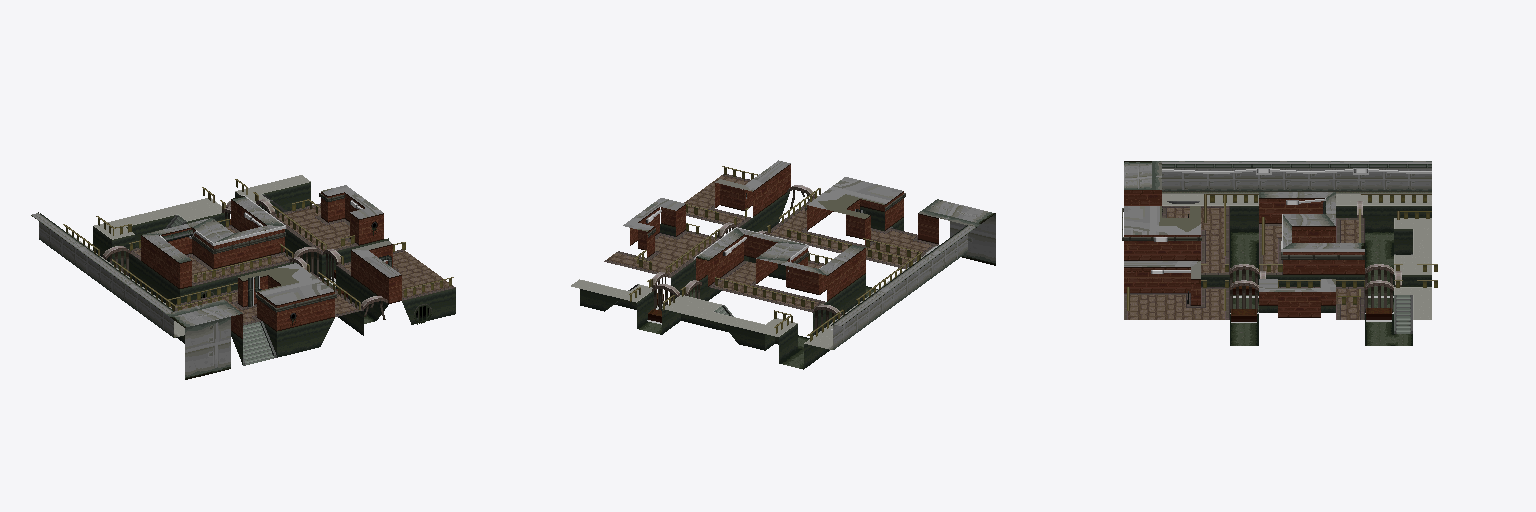
3 views of the same model, side by side, from view 1: azimuth 30°, elevation 25°; view 2: azimuth 150°, elevation 25°; view 3: azimuth 270°, elevation 25° (orthographic).
Parts seen in each view (by area): view 1: polygon5, polygon6, polygon0, polygon4, polygon7, polygon18, polygon3, polygon22, polygon1, polygon15, polygon16; view 2: polygon5, polygon6, polygon0, polygon4, polygon7, polygon3, polygon18, polygon1, polygon16, polygon17; view 3: polygon5, polygon6, polygon4, polygon17, polygon0, polygon18, polygon3, polygon22, polygon7, polygon1, polygon10, polygon16 (+3 smaller).
Boxes of the visible parts, x1=… form: polygon5: x1=31, y1=185, x2=400, y2=379; polygon6: x1=141, y1=192, x2=401, y2=338; polygon0: x1=93, y1=182, x2=455, y2=364; polygon4: x1=134, y1=206, x2=452, y2=322; polygon7: x1=63, y1=179, x2=453, y2=310; polygon18: x1=98, y1=175, x2=307, y2=335; polygon3: x1=131, y1=203, x2=455, y2=325; polygon22: x1=38, y1=193, x2=391, y2=312; polygon1: x1=103, y1=199, x2=387, y2=319; polygon15: x1=165, y1=194, x2=286, y2=365; polygon16: x1=68, y1=180, x2=310, y2=308; polygon5: x1=623, y1=160, x2=995, y2=349; polygon6: x1=630, y1=164, x2=938, y2=301; polygon0: x1=580, y1=192, x2=903, y2=368; polygon4: x1=607, y1=175, x2=931, y2=309; polygon7: x1=629, y1=166, x2=922, y2=341; polygon3: x1=604, y1=174, x2=938, y2=312; polygon18: x1=571, y1=281, x2=832, y2=348; polygon1: x1=651, y1=185, x2=841, y2=334; polygon16: x1=578, y1=245, x2=938, y2=343; polygon17: x1=637, y1=286, x2=877, y2=369; polygon5: x1=1124, y1=161, x2=1431, y2=291; polygon6: x1=1124, y1=190, x2=1364, y2=317; polygon4: x1=1128, y1=208, x2=1359, y2=319; polygon17: x1=1230, y1=232, x2=1412, y2=345; polygon0: x1=1201, y1=206, x2=1431, y2=312; polygon18: x1=1162, y1=194, x2=1431, y2=319; polygon3: x1=1124, y1=206, x2=1364, y2=319; polygon22: x1=1122, y1=164, x2=1431, y2=303; polygon7: x1=1127, y1=194, x2=1437, y2=310; polygon1: x1=1230, y1=201, x2=1401, y2=312; polygon10: x1=1162, y1=169, x2=1431, y2=272; polygon16: x1=1162, y1=204, x2=1431, y2=319.
Bounding box in the file's own units: 8.95 × 1.75 × 8.23.
25 materials, 23 textured.